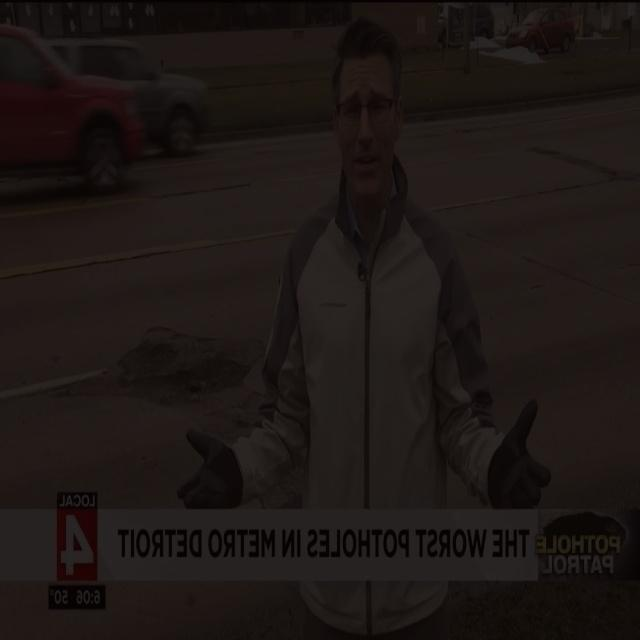Pothole: (59, 329, 262, 410)
